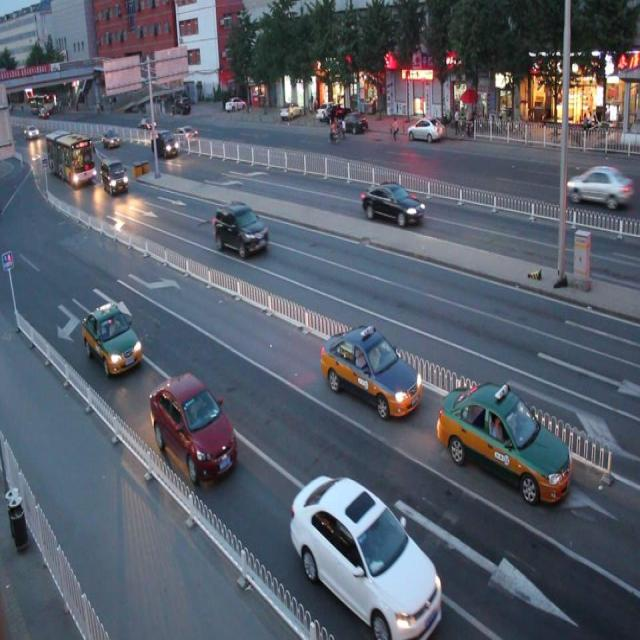car: (289, 471, 442, 640), (435, 379, 571, 502), (149, 372, 238, 481), (320, 324, 421, 416), (82, 301, 144, 377), (214, 203, 267, 257), (360, 179, 422, 225), (565, 165, 626, 208)
